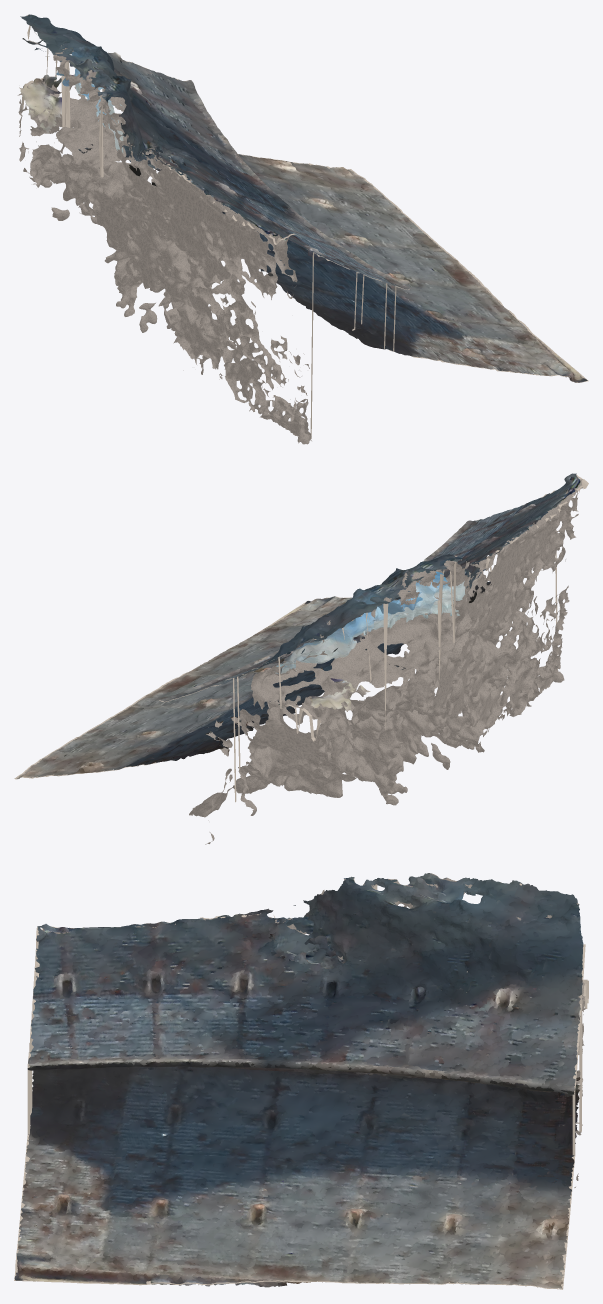
File: dkr-west-stand-near.glb
The picture shows the model from 3 angles, top to bottom: view 1: azimuth 30°, elevation 25°; view 2: azimuth 150°, elevation 25°; view 3: azimuth 270°, elevation 25°; orthographic projection. The views are drawn at different scales.
Visible parts, largest first — view 1: DKR west stand scan, DKR west stand authored infill; view 2: DKR west stand scan, DKR west stand authored infill; view 3: DKR west stand scan, DKR west stand authored infill.
Boxes of the visible parts, x1=… form: DKR west stand scan: x1=17, y1=14, x2=587, y2=444; DKR west stand authored infill: x1=21, y1=25, x2=588, y2=438; DKR west stand scan: x1=16, y1=473, x2=582, y2=844; DKR west stand authored infill: x1=14, y1=474, x2=588, y2=802; DKR west stand scan: x1=14, y1=873, x2=585, y2=1289; DKR west stand authored infill: x1=14, y1=879, x2=588, y2=1289.
Size of what is drawn, in the model's own units: 79.82 by 55.17 by 111.
Materials: 2 (1 with a texture image).
